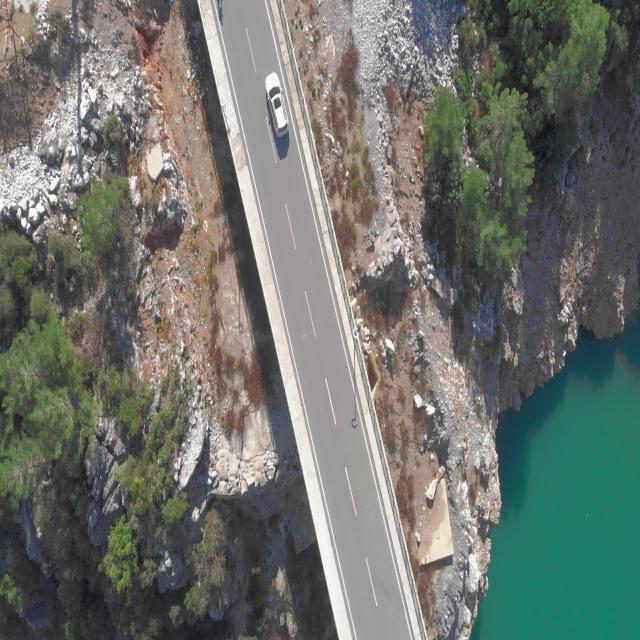vehicle: (264, 72, 290, 137)
